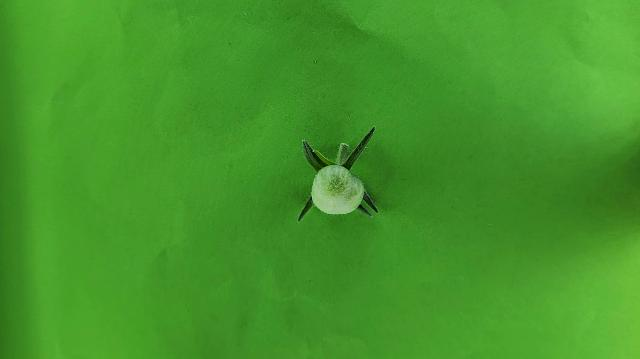Fruit Maturation: (312, 167, 363, 214)
